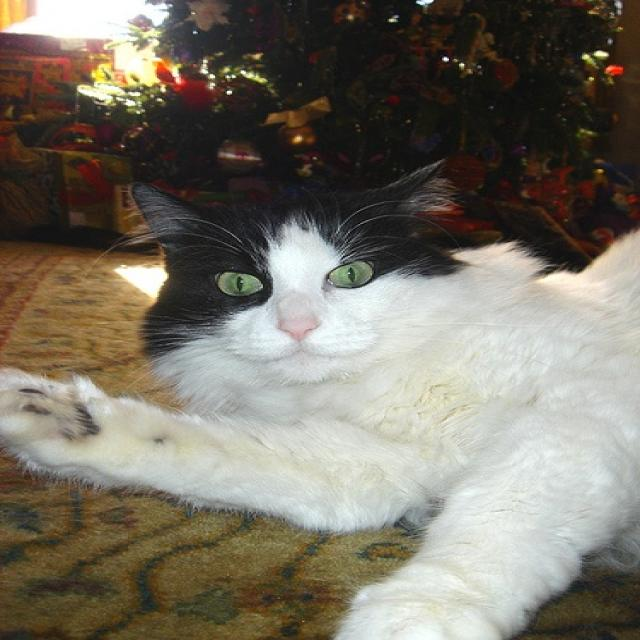cat: (7, 184, 638, 639)
